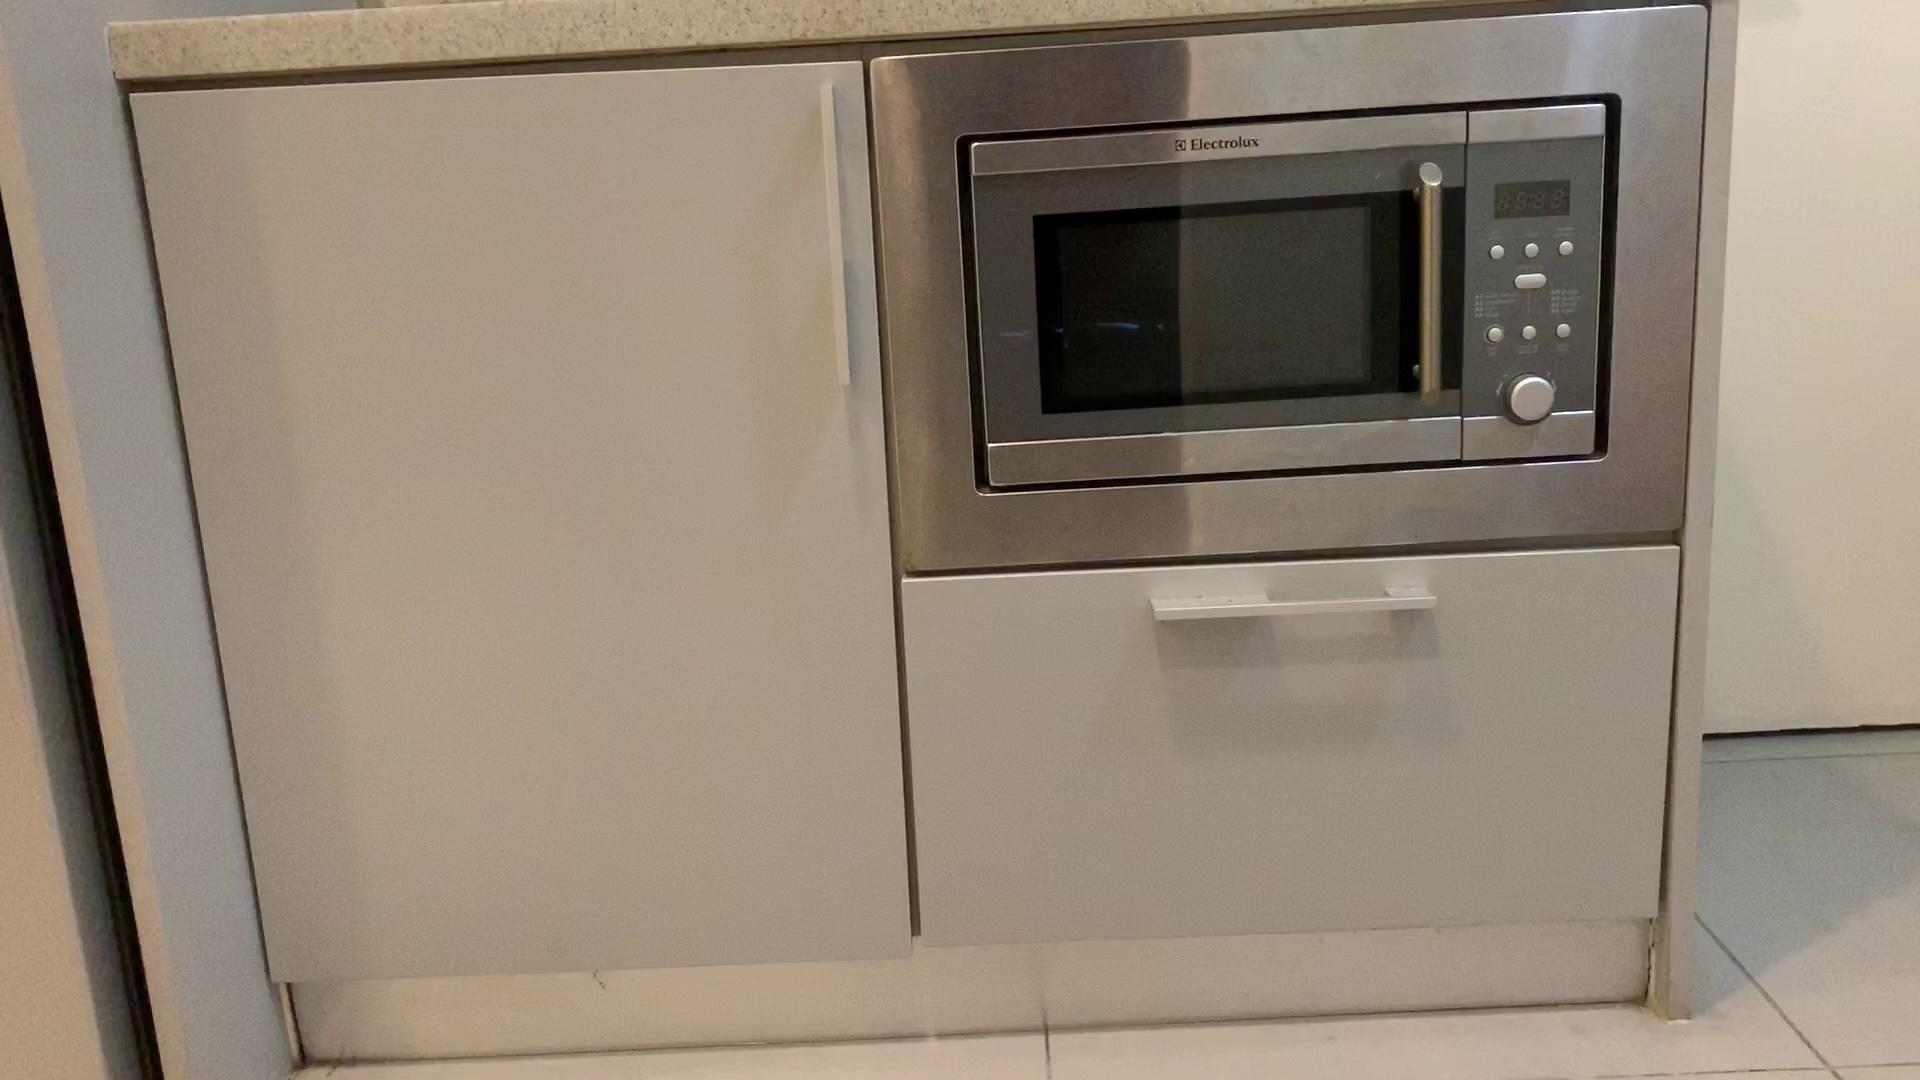cabinet_door: (102, 44, 893, 1011), (909, 570, 1660, 942)
handle: (1143, 576, 1461, 644), (808, 71, 866, 400)
